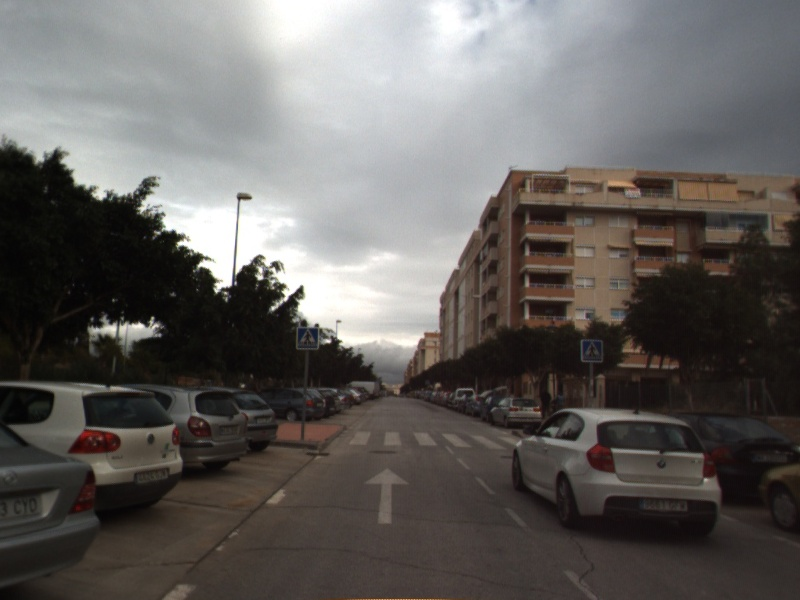STRAIGHT: (362, 466, 412, 526)
